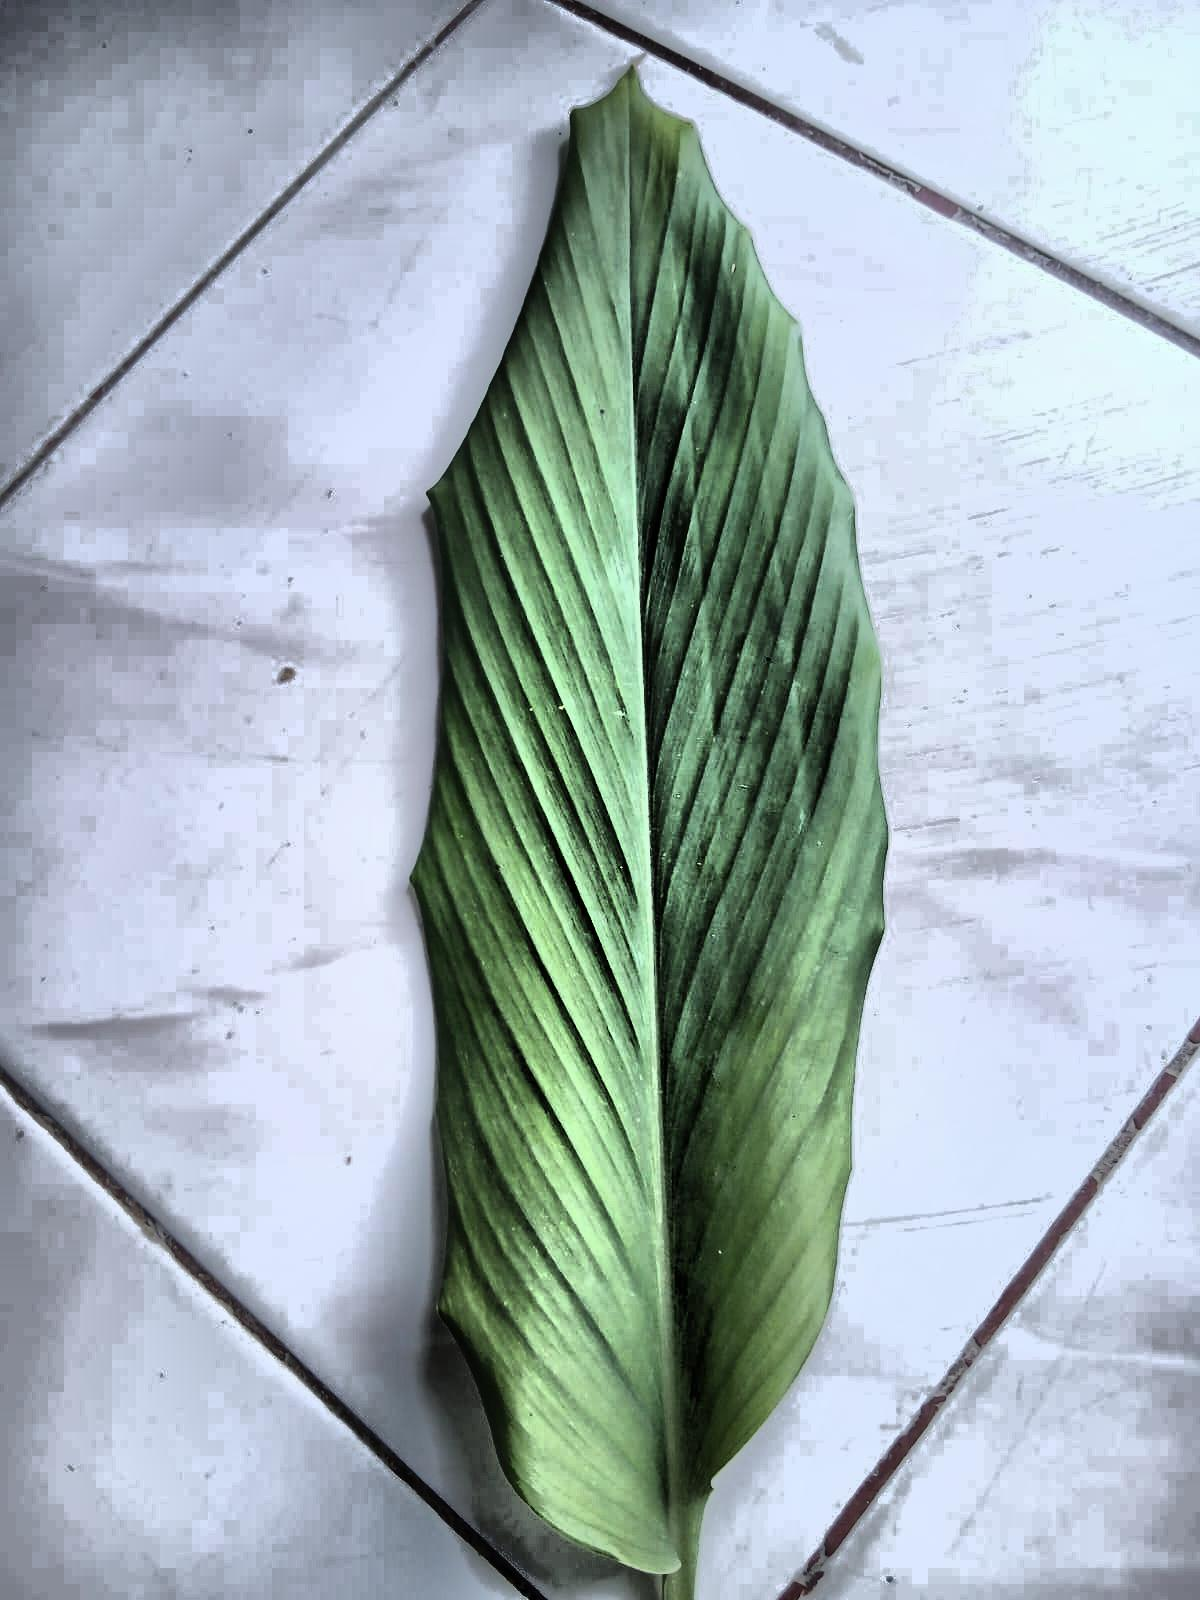daun kunyit: (412, 71, 886, 1599)
